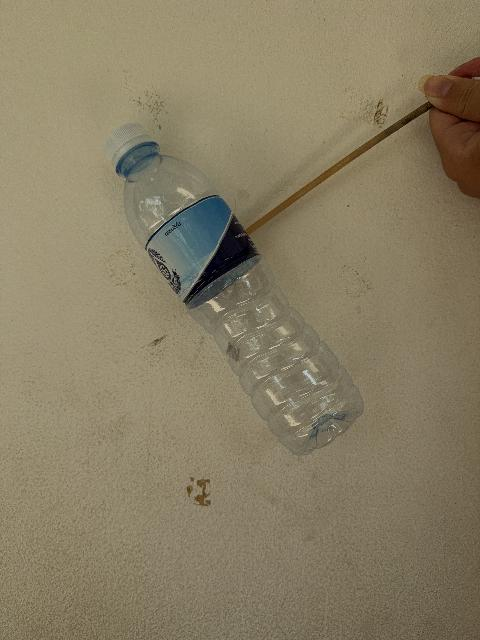bottle: (104, 124, 362, 454)
